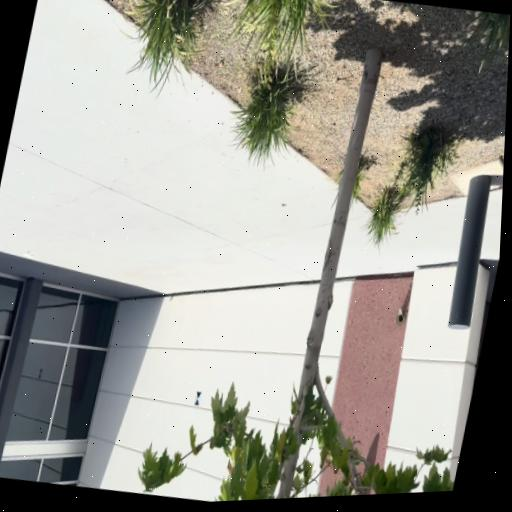target7: (193, 391, 202, 406)
